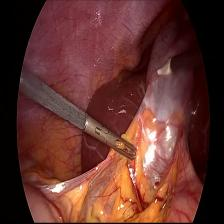Grasper: (84, 112, 140, 163)
Hook: (153, 56, 175, 84)
